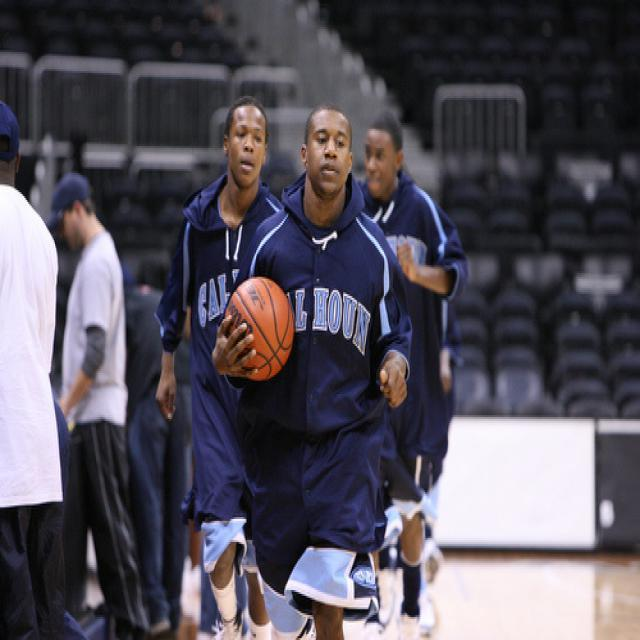basketball: (223, 278, 294, 381)
